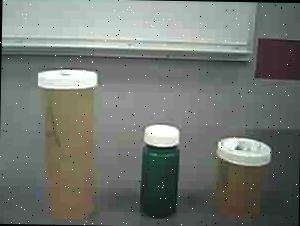Bottle A: (27, 62, 113, 221)
Bottle B: (208, 133, 277, 222)
Bottle C: (134, 121, 190, 220)
